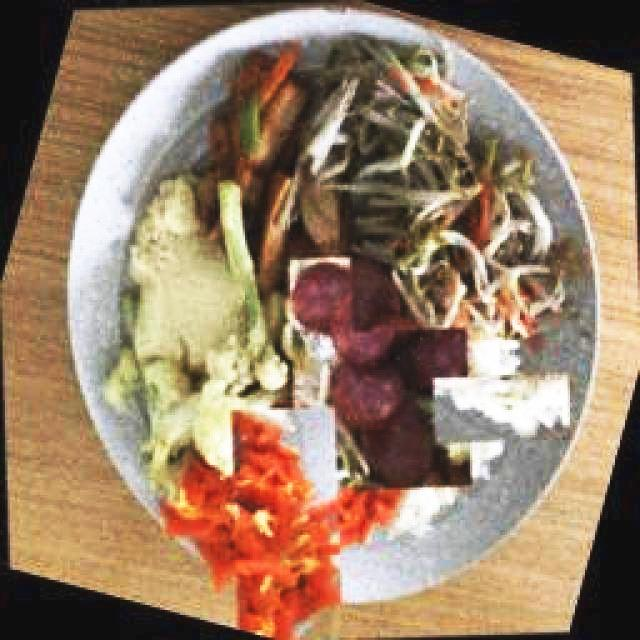chinese_sausage: (329, 326, 432, 488)
